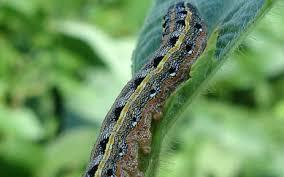fallarmy_worm: (81, 1, 201, 176)
